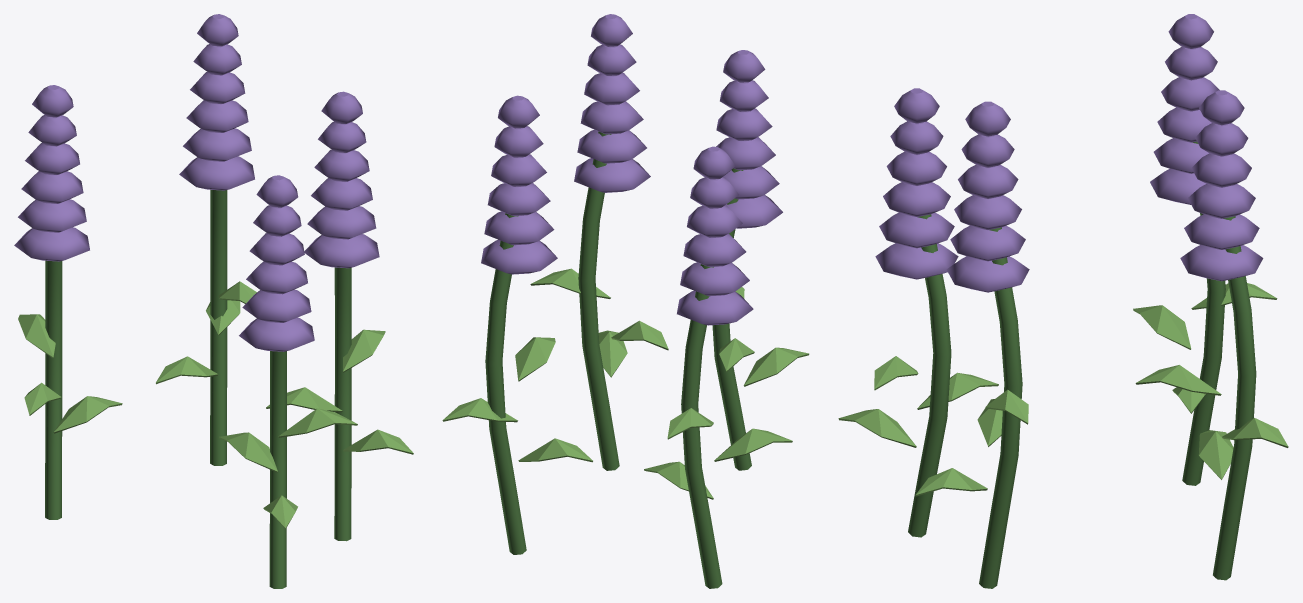
File: flower.lavender.glb
The picture shows the model from 3 angles, left to right: view 1: azimuth 30°, elevation 25°; view 2: azimuth 150°, elevation 25°; view 3: azimuth 270°, elevation 25°; orthographic projection. The views are drawn at different scales.
Visible parts, largest first — view 1: Living stem; view 2: Living stem; view 3: Living stem.
Boxes of the visible parts, box(x1,y1,x2,y2) form: Living stem: box(14, 14, 413, 588); Living stem: box(442, 14, 809, 588); Living stem: box(838, 14, 1288, 588).
Size of the model in its own units: 0.3779 by 0.526 by 0.443.
